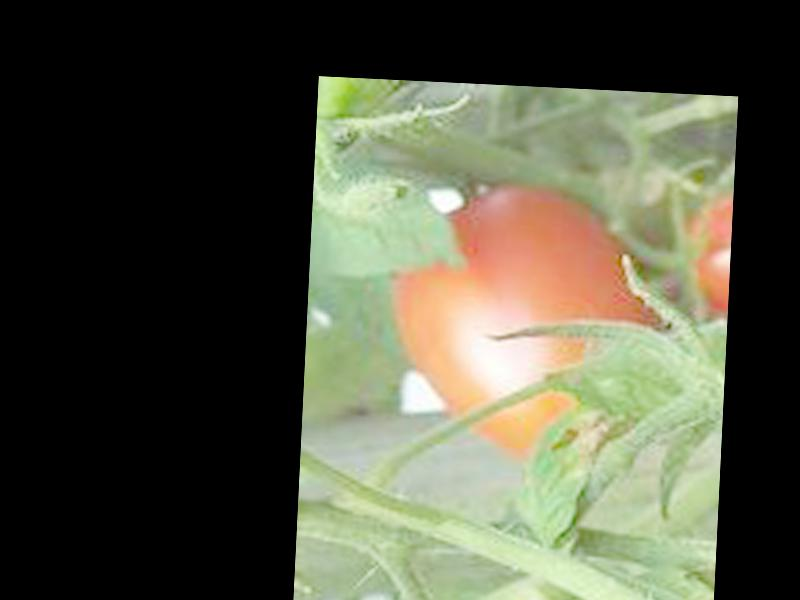Tomato: (384, 181, 653, 460)
